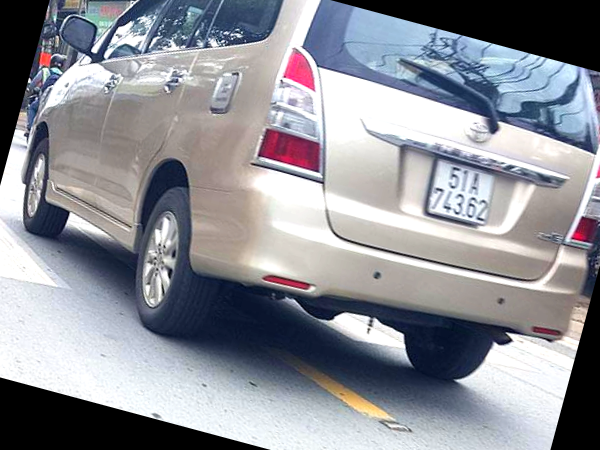lisence: (427, 156, 492, 226)
